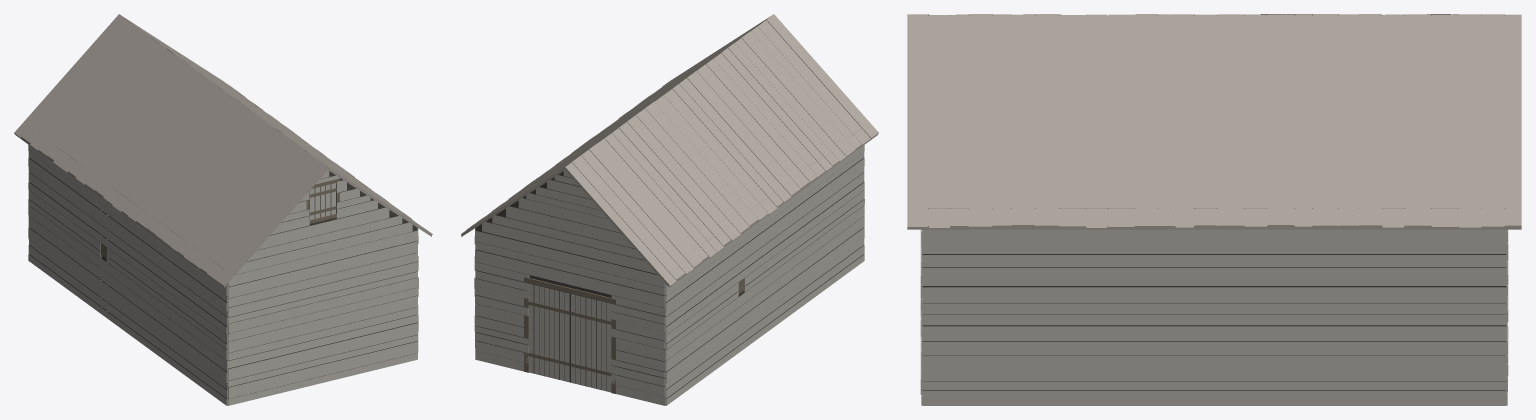
File: recon_1835_blk_school_section_tier_81_a2_08__inferred_1835.glb
3 views of the same model, side by side, from view 1: azimuth 30°, elevation 25°; view 2: azimuth 150°, elevation 25°; view 3: azimuth 270°, elevation 25° (orthographic). The views are drawn at different scales.
Parts seen in each view (by area): view 1: recon_1835_blk_school_section_tier_81_a2_08__inferred_1835; view 2: recon_1835_blk_school_section_tier_81_a2_08__inferred_1835; view 3: recon_1835_blk_school_section_tier_81_a2_08__inferred_1835.
Part boxes in pixels (x1,y1,x2,y2): recon_1835_blk_school_section_tier_81_a2_08__inferred_1835: [14, 14, 432, 405]; recon_1835_blk_school_section_tier_81_a2_08__inferred_1835: [461, 14, 878, 405]; recon_1835_blk_school_section_tier_81_a2_08__inferred_1835: [907, 14, 1521, 405].
Size of the model in its own units: 7.38 by 7.35 by 12.66.
